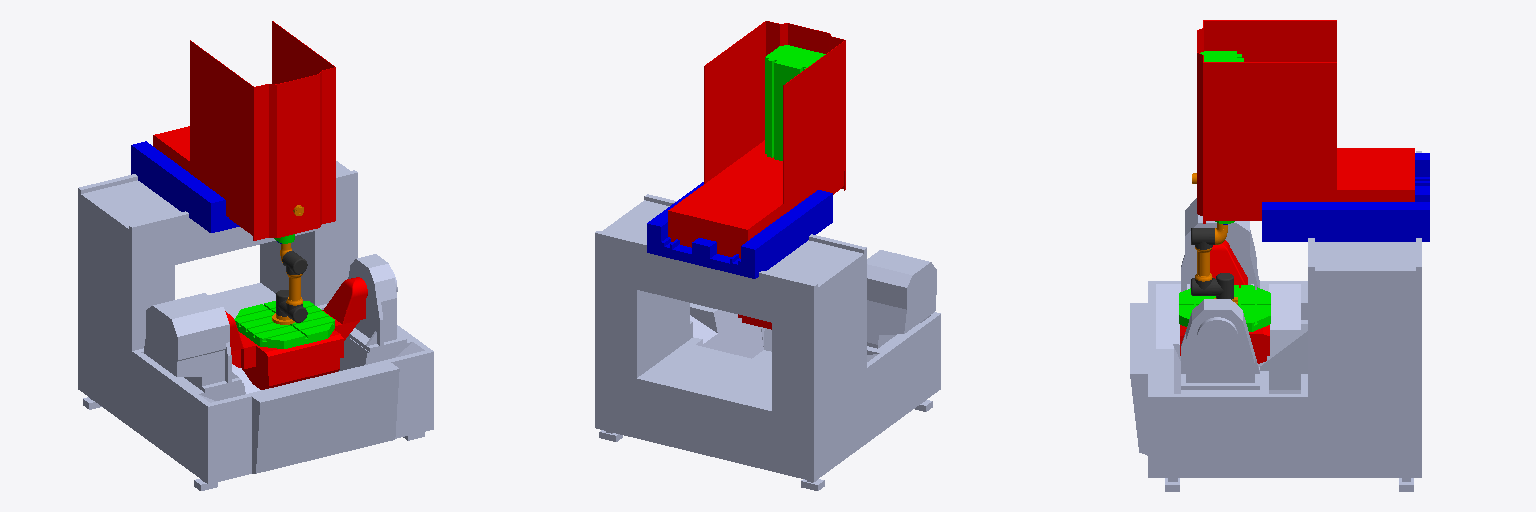
The robot description file, URDF, robot "aobo_tuopu":
 <robot name="aobo_tuopu"> 
	<link name="base_link">
		<visual>
		  <origin xyz="0. 0. 0." rpy="0. 0. 0." />
		  <geometry>
			<mesh filename="Geometry/A_TABLE_SURPORT.obj" scale="0.001 0.001 0.001" />
		  </geometry>
		  <material
			name="color0">
			<color rgba="0.792156862745098 0.819607843137255 0.933333333333333 0.8" />
		  </material>
		</visual>
		<collision>
          <origin rpy="0 0 0" xyz="0 0 0"/>
          <geometry>
            <mesh filename="Geometry/A_TABLE_SURPORT_vhacd.obj" scale="0.001 0.001 0.001" />
          </geometry>
        </collision>

		<visual>
		  <origin xyz="0. 0. 0." rpy="0. 0. 0." />
		  <geometry>
			<mesh filename="Geometry/BED.obj" scale="0.001 0.001 0.001" />
		  </geometry>
		  <material
			name="color0">
			<color rgba="0.792156862745098 0.819607843137255 0.933333333333333 0.8" />
		  </material>
		</visual>
		<collision>
          <origin rpy="0 0 0" xyz="0 0 0"/>
          <geometry>
            <mesh filename="Geometry/BED_vhacd.obj" scale="0.001 0.001 0.001" />
          </geometry>
        </collision>
    </link>

    <link name="A_axis">
		<visual>
		  <origin xyz="0. +0.05 -.128" rpy="0. 0. 0." />
		  <geometry>
			<mesh filename="Geometry/A_TABLE.obj" scale="0.001 0.001 0.001" />
		  </geometry>
		  <material
			name="color1">
			<color rgba="1 0 0 0.8" />
		  </material>
		</visual>
		<collision>
          <origin xyz="0. +0.05 -.128" rpy="0. 0. 0." />
          <geometry>
            <mesh filename="Geometry/A_TABLE_vhacd.obj" scale="0.001 0.001 0.001" />
          </geometry>
        </collision>
    </link>

    <link name="C_axis">
		<visual>
		  <origin xyz="0. 0. 0." rpy="0. 0. 0." />
		  <geometry>
			<mesh filename="Geometry/C_TABLE.obj" scale="0.001 0.001 0.001" />
		  </geometry>
		  <material
			name="color2">
			<color rgba="0 1 0 0.8" />
		  </material>
		</visual>
		<collision>
          <origin xyz="0. 0. 0." rpy="0. 0. 0." />
          <geometry>
            <mesh filename="Geometry/C_TABLE_vhacd.obj" scale="0.001 0.001 0.001" />
          </geometry>
        </collision>
    </link>

	<link name="X_axis">
		<visual>
		  <origin xyz="0. 0. 0." rpy="0. 0. 0." />
		  <geometry>
			<mesh filename="Geometry/X_AXIS.obj" scale="0.001 0.001 0.001" />
		  </geometry>
		  <material
			name="color3">
			<color rgba="0 0 1 0.8" />
		  </material>
		</visual>
		<collision>
          <origin xyz="0. 0. 0." rpy="0. 0. 0." />
          <geometry>
            <mesh filename="Geometry/X_AXIS_vhacd.obj" scale="0.001 0.001 0.001" />
          </geometry>
        </collision>
    </link>

	<link name="Y_axis">
		<visual>
		  <origin xyz="0. 0. 0." rpy="0. 0. 0." />
		  <geometry>
			<mesh filename="Geometry/Y_Axis.obj" scale="0.001 0.001 0.001" />
		  </geometry>
		  <material
			name="color1">
		  </material>
		</visual>
		<collision>
          <origin xyz="0. 0. 0." rpy="0. 0. 0." />
          <geometry>
            <mesh filename="Geometry/Y_Axis_vhacd.obj" scale="0.001 0.001 0.001" />
          </geometry>
        </collision>
    </link>

	<link name="Z_axis">
		<visual>
		  <origin xyz="0. 0. 0." rpy="0. 0. 0." />
		  <geometry>
			<mesh filename="Geometry/Z_Axis.obj" scale="0.001 0.001 0.001" />
		  </geometry>
		  <material
			name="color2">
		  </material>
		</visual>
		<collision>
          <origin xyz="0. 0. 0." rpy="0. 0. 0." />
          <geometry>
            <mesh filename="Geometry/Z_Axis_vhacd.obj" scale="0.001 0.001 0.001" />
          </geometry>
        </collision>
    </link>

	<link name="S_axis">
		<visual>
		  <origin xyz="0. 0. 0." rpy="0. 0. 0." />
		  <geometry>
			<mesh filename="Geometry/Spindle.obj" scale="0.001 0.001 0.001" />
		  </geometry>
		  <material
			name="color3">
		  </material>
		</visual>
		<collision>
          <origin xyz="0. 0. 0." rpy="0. 0. 0." />
          <geometry>
            <mesh filename="Geometry/Spindle_vhacd.obj" scale="0.001 0.001 0.001" />
          </geometry>
        </collision>
    </link>

	<link name="robot_base_link">
		<visual>
		  <origin xyz="0. 0. 0." rpy="0. 0. 0." />
		  <geometry>
			<mesh filename="Geometry/i7-(1)-base.obj" scale="0.001 0.001 0.001" />
		  </geometry>
		  <material
			name="robot_orange">
			<color rgba="0.9137255 0.5137254 0. 1" />
		  </material>
		</visual>
		<collision>
          <origin xyz="0. 0. 0." rpy="0. 0. 0." />
          <geometry>
            <mesh filename="Geometry/i7-(1)-base_vhacd.obj" scale="0.001 0.001 0.001" />
          </geometry>
        </collision>
    </link>

	<link name="robot_ID1">
		<visual>
		  <origin xyz="0. 0. -.122" rpy="0. 0. 0" />
		  <geometry>
			<mesh filename="Geometry/i7-(2)-ID1.obj" scale="0.001 0.001 0.001" />
		  </geometry>
		  <material
			name="robot_black">
			<color rgba="0.2509804 0.2509804 0.2509804 1" />
		  </material>
		</visual>
		<collision>
          <origin xyz="0. 0. -.122" rpy="0. 0. 0" />
          <geometry>
            <mesh filename="Geometry/i7-(2)-ID1_vhacd.obj" scale="0.001 0.001 0.001" />
          </geometry>
        </collision>
    </link>

	<link name="robot_ID2">
		<visual>
		  <origin xyz="0. 0.1215 -.122" rpy="0. 0. 0" />
		  <geometry>
			<mesh filename="Geometry/i7-(3)-ID2.obj" scale="0.001 0.001 0.001" />
		  </geometry>
		  <material
			name="robot_black">
			<color rgba="0.2509804 0.2509804 0.2509804 1" />
		  </material>
		</visual>
		<collision>
          <origin xyz="0. 0.1215 -.122" rpy="0. 0. 0" />
          <geometry>
            <mesh filename="Geometry/i7-(3)-ID2_vhacd.obj" scale="0.001 0.001 0.001" />
          </geometry>
        </collision>
    </link>

	<link name="robot_dabiguan">
		<visual>
		  <origin xyz="0. 0.1215 -0.122" rpy="0. 0. 0" />
		  <geometry>
			<mesh filename="Geometry/i7-(8)-dabiguan.obj" scale="0.001 0.001 0.001" />
		  </geometry>
		  <material
			name="robot_orange">
		  </material>
		</visual>
		<collision>
          <origin xyz="0. 0.1215 -0.122" rpy="0. 0. 0" />
          <geometry>
            <mesh filename="Geometry/i7-(8)-dabiguan_vhacd.obj" scale="0.001 0.001 0.001" />
          </geometry>
        </collision>
    </link>

	<link name="robot_ID3">
		<visual>
		  <origin xyz="0. 0.1215 -0.122" rpy="0. 0. 0" />
		  <geometry>
			<mesh filename="Geometry/i7-(4)-ID3.obj" scale="0.001 0.001 0.001" />
		  </geometry>
		  <material name="robot_black"/>
		</visual>
		<collision>
          <origin xyz="0. 0.1215 -0.122" rpy="0. 0. 0" />
          <geometry>
            <mesh filename="Geometry/i7-(4)-ID3_vhacd.obj" scale="0.001 0.001 0.001" />
          </geometry>
        </collision>
    </link>

	<link name="robot_wantou">
		<visual>
		  <origin xyz="0. 0.1215 -0.490" rpy="0. 0. 0" />
		  <geometry>
			<mesh filename="Geometry/i7-(10)-wantou.obj" scale="0.001 0.001 0.001" />
		  </geometry>
		  <material
			name="robot_orange">
		  </material>
		</visual>
		<collision>
          <origin xyz="0. 0.1215 -0.490" rpy="0. 0. 0" />
          <geometry>
            <mesh filename="Geometry/i7-(10)-wantou_vhacd.obj" scale="0.001 0.001 0.001" />
          </geometry>
        </collision>
    </link>

	<link name="robot_xiaobiguan">
		<visual>
		  <origin xyz="0. 0.1215 -0.490" rpy="0. 0. 0" />
		  <geometry>
			<mesh filename="Geometry/i7-(9)-xiaobiguan.obj" scale="0.001 0.001 0.001" />
		  </geometry>
		  <material
			name="robot_orange">
		  </material>
		</visual>
		<collision>
          <origin xyz="0. 0.1215 -0.490" rpy="0. 0. 0" />
          <geometry>
            <mesh filename="Geometry/i7-(9)-xiaobiguan_vhacd.obj" scale="0.001 0.001 0.001" />
          </geometry>
        </collision>
    </link>

	<link name="robot_ID4">
		<visual>
		  <origin xyz="0. 0.1215 -0.490" rpy="0. 0. 0" />
		  <geometry>
			<mesh filename="Geometry/i7-(5)-ID4.obj" scale="0.001 0.001 0.001" />
		  </geometry>
		  <material
			name="robot_black">
		  </material>
		</visual>
		<collision>
          <origin xyz="0. 0.1215 -0.490" rpy="0. 0. 0" />
          <geometry>
            <mesh filename="Geometry/i7-(5)-ID4_vhacd.obj" scale="0.001 0.001 0.001" />
          </geometry>
        </collision>
    </link>

	<link name="robot_ID5">
		<visual>
		  <origin xyz="0. 0.1215 -0.806" rpy="0. 0. 0" />
		  <geometry>
			<mesh filename="Geometry/i7-(6)-ID5.obj" scale="0.001 0.001 0.001" />
		  </geometry>
		  <material
			name="robot_black">
		  </material>
		</visual>
		<collision>
          <origin xyz="0. 0.1215 -0.806" rpy="0. 0. 0" />
          <geometry>
            <mesh filename="Geometry/i7-(6)-ID5_vhacd.obj" scale="0.001 0.001 0.001" />
          </geometry>
        </collision>
    </link>

	<link name="robot_ID6">
		<visual>
		  <origin xyz="0. 0.1215 -0.9085" rpy="0. 0. 0" />
		  <geometry>
			<mesh filename="Geometry/i7-(7)-ID6.obj" scale="0.001 0.001 0.001" />
		  </geometry>
		  <material
			name="robot_black">
		  </material>
		</visual>
		<collision>
          <origin xyz="0. 0.1215 -0.9085" rpy="0. 0. 0" />
          <geometry>
            <mesh filename="Geometry/i7-(7)-ID6_vhacd.obj" scale="0.001 0.001 0.001" />
          </geometry>
        </collision>
    </link>

	<link name="robot_end">
		<visual>
		  <origin xyz="0. 0.2155 -0.9085" rpy="0. 0. 0" />
		  <geometry>
			<mesh filename="Geometry/i7-(11)-endeffect.obj" scale="0.001 0.001 0.001" />
		  </geometry>
		  <material
			name="robot_orange">
		  </material>
		</visual>
		<collision>
          <origin xyz="0. 0.2155 -0.9085" rpy="0. 0. 0" />
          <geometry>
            <mesh filename="Geometry/i7-(11)-endeffect_vhacd.obj" scale="0.001 0.001 0.001" />
          </geometry>
        </collision>
    </link>
	
	<joint name="robot_j6" type="revolute">
        <axis xyz="0 1 0"/>
        <parent link="robot_ID6"/>
        <child link="robot_end"/>
        <origin rpy="0 0 0" xyz="0. -0.094 0."/>
        <limit effort="100" velocity="100"/>
        <joint_properties damping="0.0" friction="0.0"/>
    </joint>
	
	<joint name="robot_j5" type="revolute">
        <axis xyz="0 0 1"/>
        <parent link="robot_ID5"/>
        <child link="robot_ID6"/>
        <origin rpy="0 0 0" xyz="0. 0. 0.1025"/>
        <limit effort="100" velocity="100"/>
        <joint_properties damping="0.0" friction="0.0"/>
    </joint>
	
	<joint name="robot_j4" type="revolute">
        <axis xyz="0 1 0"/>
        <parent link="robot_ID4"/>
        <child link="robot_ID5"/>
        <origin rpy="0 0 0" xyz="0. 0. 0.316"/>
        <limit effort="100" velocity="100"/>
        <joint_properties damping="0.0" friction="0.0"/>
    </joint>
	
	<joint name="robot_ID4_xiaobiguan" type="fixed">
        <parent link="robot_xiaobiguan"/>
        <child link="robot_ID4"/>
        <origin rpy="0 0 0" xyz="0. 0. 0."/>
    </joint>
	
	<joint name="robot_wantou_xiaobiguan" type="fixed">
        <parent link="robot_wantou"/>
        <child link="robot_xiaobiguan"/>
        <origin rpy="0. 0. 0." xyz="0. 0. 0."/>
    </joint>
	
	<joint name="robot_j3" type="revolute">
        <axis xyz="0 1 0"/>
        <parent link="robot_ID3"/>
        <child link="robot_wantou"/>
        <origin rpy="0. 0. 0." xyz="0. 0. 0.368"/>
        <limit effort="100" velocity="100"/>
        <joint_properties damping="0.0" friction="0.0"/>
    </joint>
	
	<joint name="robot_ID3_dabiguan" type="fixed">
        <parent link="robot_dabiguan"/>
        <child link="robot_ID3"/>
        <origin rpy="0. 0. 0" xyz="0. 0. 0."/>
    </joint>
	
	<joint name="robot_ID2_dabiguan" type="fixed">
        <parent link="robot_ID2"/>
        <child link="robot_dabiguan"/>
        <origin rpy="0. 0. 0" xyz="0. 0. 0."/>
    </joint>
	
	<joint name="robot_j2" type="revolute">
        <axis xyz="0 1 0"/>
        <parent link="robot_ID1"/>
        <child link="robot_ID2"/>
        <origin rpy="0. 0. 0." xyz="0. -0.1215 0."/>
        <limit effort="100" velocity="100"/>
        <joint_properties damping="0.0" friction="0.0"/>
    </joint>
	
	<joint name="robot_j1" type="revolute">
        <axis xyz="0 0 1"/>
        <parent link="robot_base_link"/>
        <child link="robot_ID1"/>
        <origin rpy="0. 0. 0" xyz="0. 0. 0.122"/>
        <limit effort="100" velocity="100"/>
        <joint_properties damping="0.0" friction="0.0"/>
    </joint>
	
	
	<joint name="robot_base" type="fixed">
        <parent link="C_axis"/>
        <child link="robot_base_link"/>
        <origin rpy="0. 0. 0" xyz="0. 0. 0."/>
    </joint>
	

    <joint name="machine_A" type="revolute">
        <axis xyz="1 0 0"/>
        <parent link="base_link"/>
        <child link="A_axis"/>
        <origin rpy="0. 0. 0." xyz="0. -.05 .128"/>
        <limit effort="100" velocity="100"/>
        <joint_properties damping="0.0" friction="0.0"/>
    </joint>
	
    <joint name="machine_C" type="revolute">
        <axis xyz="0 0 1"/>
        <parent link="A_axis"/>
        <child link="C_axis"/>
        <origin rpy="0. 0. 0." xyz="0. +.05 -.128"/>
        <limit effort="100" velocity="100"/>
        <joint_properties damping="0.0" friction="0.0"/>
    </joint>
	
	<joint name="machine_X" type="prismatic">
        <axis xyz="1 0 0"/>
        <parent link="base_link"/>
        <child link="X_axis"/>
        <origin rpy="0. 0. 0." xyz="0. 0. 0."/>
        <limit effort="100" velocity="100"/>
        <joint_properties damping="0.0" friction="0.0"/>
    </joint>
	
	<joint name="machine_Y" type="prismatic">
        <axis xyz="0 1 0"/>
        <parent link="X_axis"/>
        <child link="Y_axis"/>
        <origin rpy="0. 0. 0." xyz="0. 0. 0."/>
        <limit effort="100" velocity="100"/>
        <joint_properties damping="0.0" friction="0.0"/>
    </joint>
	
	<joint name="machine_Z" type="prismatic">
        <axis xyz="0 0 1"/>
        <parent link="Y_axis"/>
        <child link="Z_axis"/>
        <origin rpy="0. 0. 0." xyz="0. 0. 0."/>
        <limit effort="100" velocity="100"/>
        <joint_properties damping="0.0" friction="0.0"/>
    </joint>
	
	<joint name="machine_S" type="continuous">
        <axis xyz="0 0 1"/>
        <parent link="Z_axis"/>
        <child link="S_axis"/>
        <origin rpy="0. 0. 0." xyz="0. 0. 0."/>
        <limit effort="100" velocity="100"/>
        <joint_properties damping="0.0" friction="0.0"/>
    </joint>
	

</robot>

--- Render facts (derived) ---
Views: 3 orthographic renders of the robot side by side, from view 1: azimuth 30°, elevation 25°; view 2: azimuth 150°, elevation 25°; view 3: azimuth 270°, elevation 25°.
Model aobo_tuopu with 18 links and 17 joints (8 revolute, 1 continuous, 3 prismatic, 5 fixed), rooted at base_link, posed all joints at 0.
Links seen in each view (by area): view 1: base_link, Y_axis, A_axis, X_axis, C_axis; view 2: base_link, Y_axis, X_axis, Z_axis; view 3: base_link, Y_axis, X_axis, C_axis, A_axis.
Link boxes in pixels (bbox=[...]): base_link: bbox=[78, 161, 433, 490]; Y_axis: bbox=[153, 21, 335, 240]; A_axis: bbox=[225, 277, 367, 389]; X_axis: bbox=[131, 141, 239, 232]; C_axis: bbox=[234, 301, 334, 348]; base_link: bbox=[595, 194, 940, 490]; Y_axis: bbox=[668, 21, 845, 258]; X_axis: bbox=[647, 182, 832, 278]; Z_axis: bbox=[765, 45, 825, 160]; base_link: bbox=[1130, 151, 1421, 491]; Y_axis: bbox=[1197, 20, 1414, 223]; X_axis: bbox=[1262, 153, 1429, 241]; C_axis: bbox=[1179, 285, 1270, 331]; A_axis: bbox=[1180, 240, 1269, 363].
Bounding box of the posed robot: 1.91 × 1.97 × 2.84 m (x, y, z).
19 mesh visuals loaded from 19 distinct referenced files (19 OBJ).
